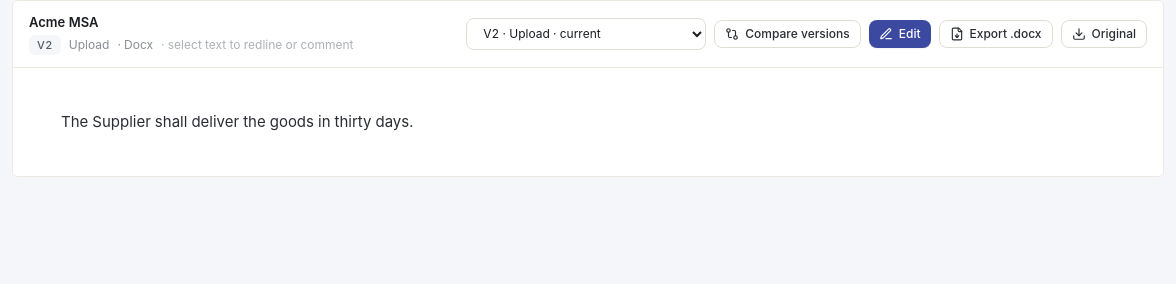
Scenario: editing the text of a contract that is past approval › warns, before anything is typed, that a contract at Signature gets a new version nobody approved
Click the button "Edit" at (900, 34), box [869,20,931,48]
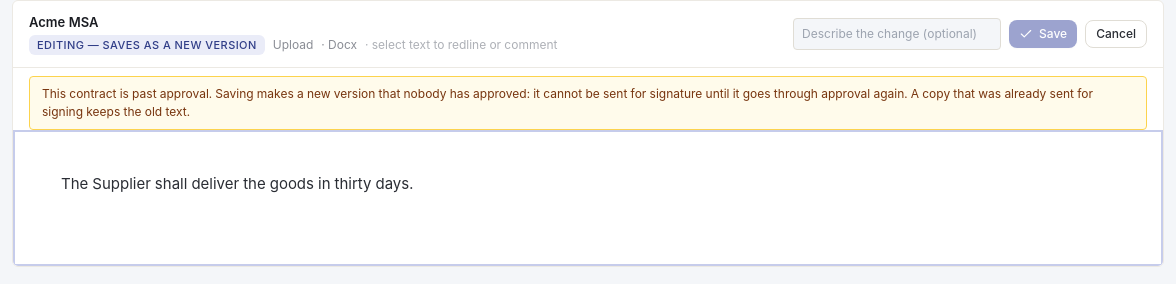
Check: the text box named "Edit contract text" is shown, box [13,130,1163,266]
Check: the text "Saving makes a new version that nobody has approved" is shown, box [42,86,1093,118]
Check: the text "cannot be sent for signature until it goes through approval again" is shown, box [42,86,1093,118]
